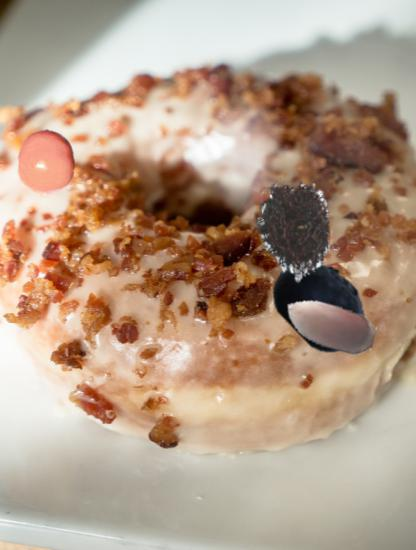Blueberry: (270, 253, 374, 357)
Clementine: (13, 129, 80, 196)
Hazelnut: (282, 279, 377, 374)
Rambutan: (244, 174, 351, 281)
